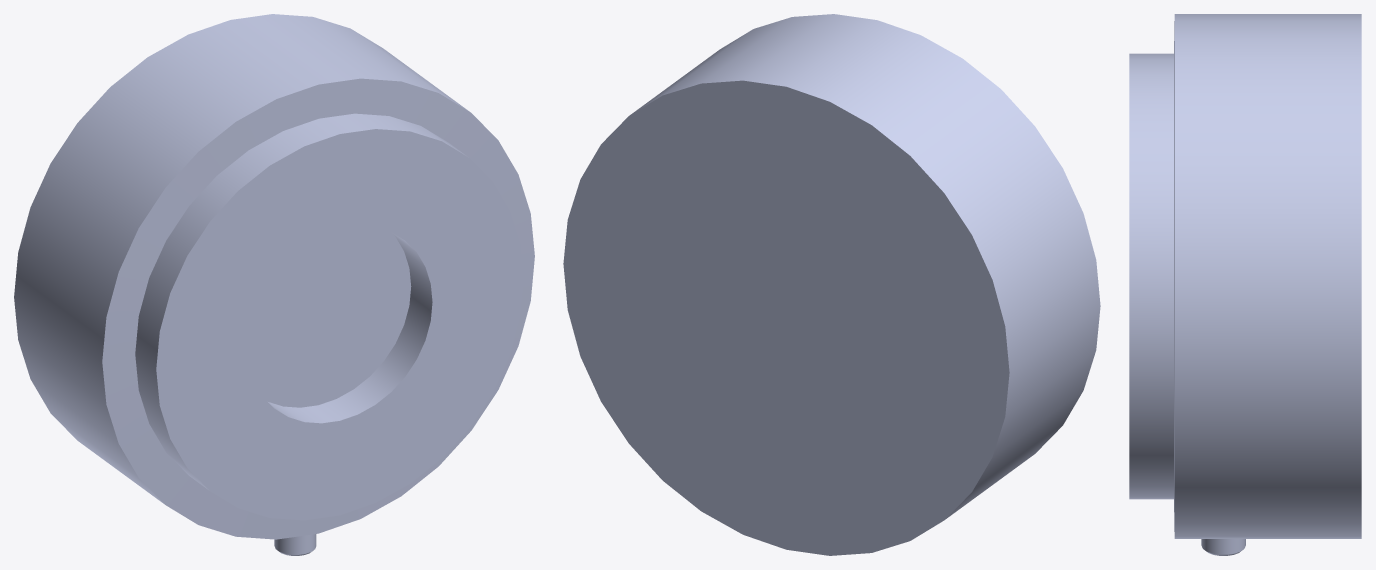
The picture shows the model from 3 angles, left to right: view 1: azimuth 30°, elevation 25°; view 2: azimuth 150°, elevation 25°; view 3: azimuth 270°, elevation 25°; orthographic projection. The views are drawn at different scales.
Parts seen in each view (by area): view 1: R6, Cylinder.013; view 2: R6; view 3: R6, Cylinder.013.
Part boxes in pixels (bbox=[...]): R6: bbox=[14, 14, 534, 539]; Cylinder.013: bbox=[274, 534, 316, 555]; R6: bbox=[563, 14, 1100, 555]; R6: bbox=[1129, 14, 1361, 538]; Cylinder.013: bbox=[1201, 539, 1245, 555].
Bounding box in the file's own units: 0.0743 × 0.0789 × 0.0326.
